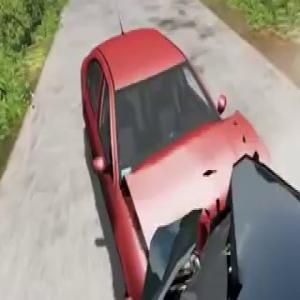minor: (20, 11, 300, 300)
